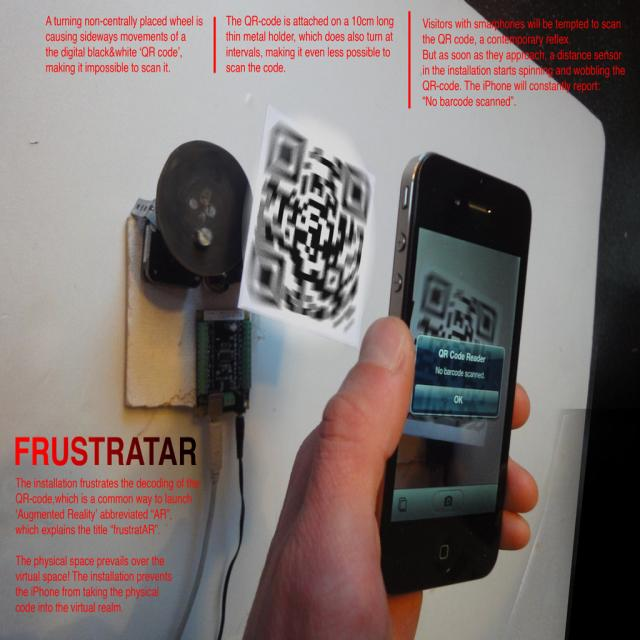Mobile-phone: (377, 142, 527, 600)
